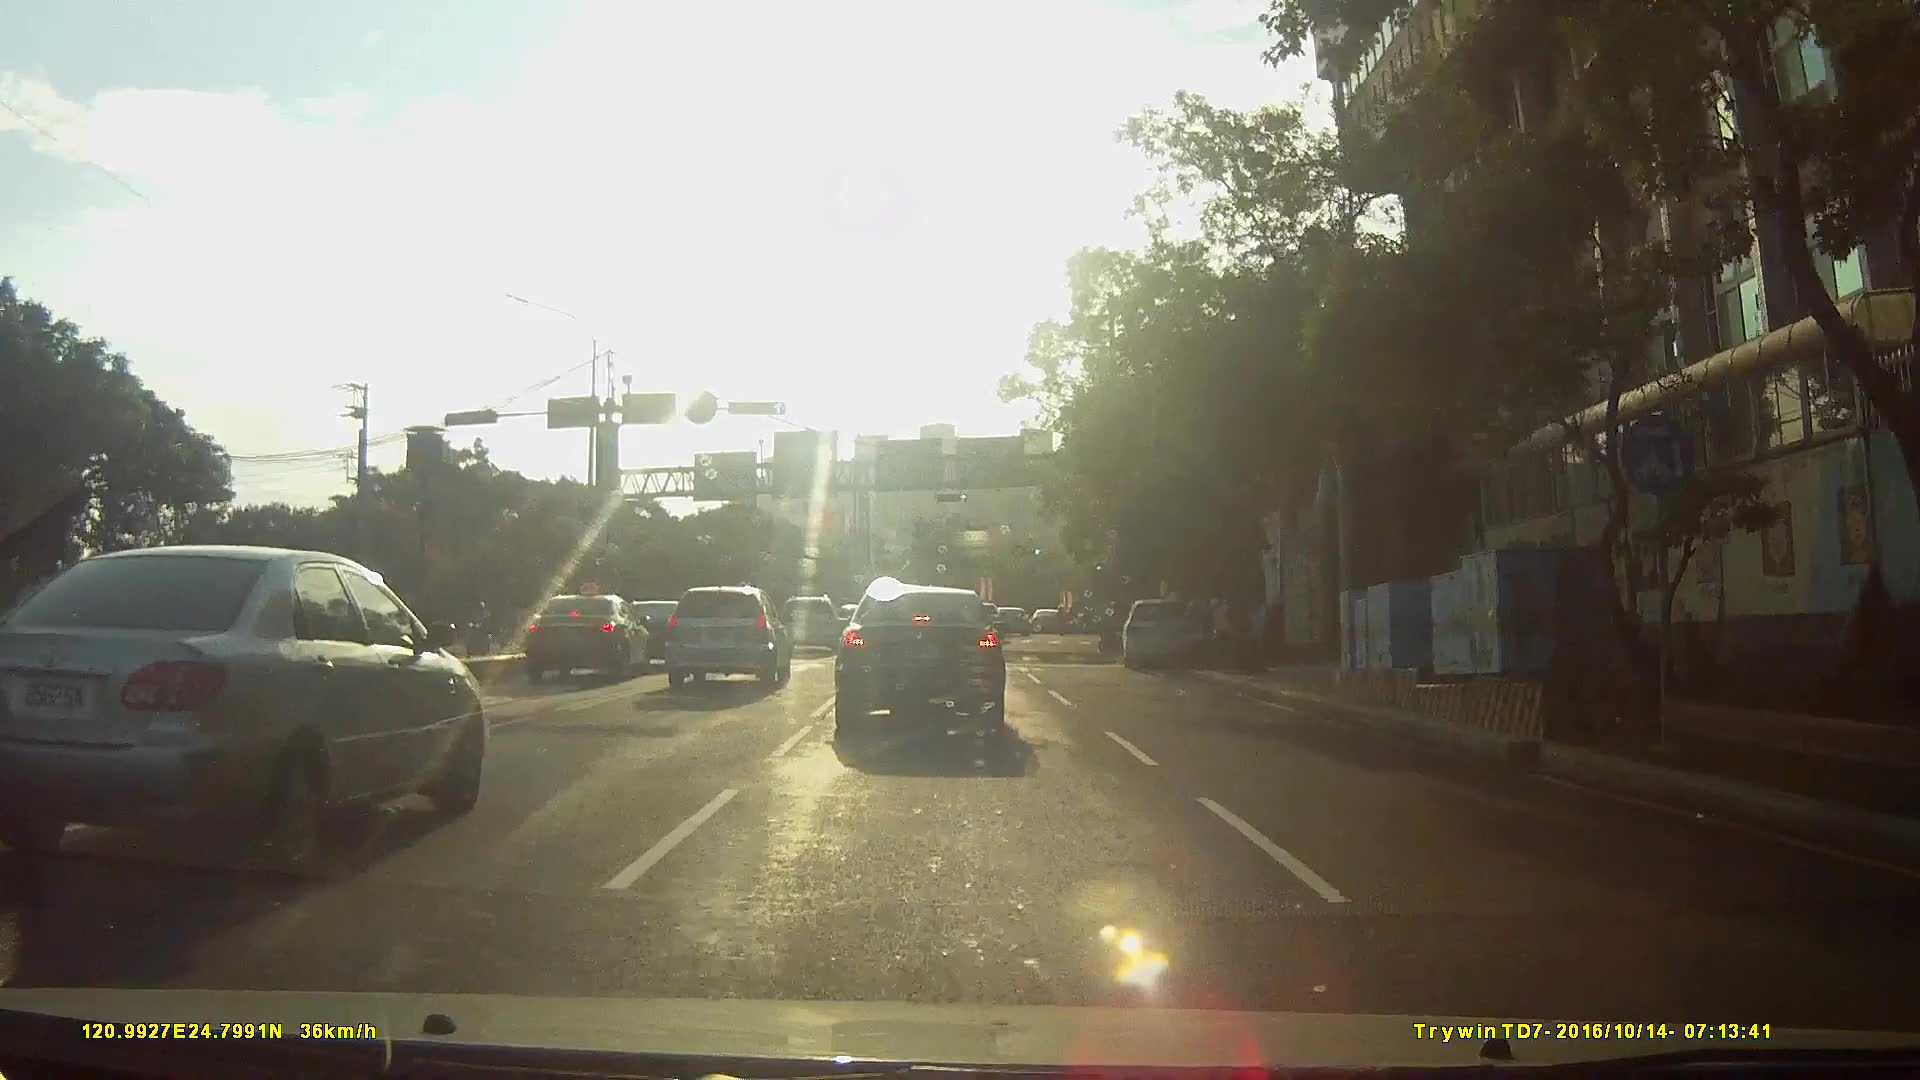pedestrian: (1209, 600, 1233, 663)
rider: (465, 598, 495, 659)
vehicle: (1, 544, 506, 891), (825, 601, 1023, 771), (658, 587, 790, 691), (500, 596, 640, 691), (1126, 599, 1209, 676), (604, 601, 685, 670), (776, 599, 845, 662), (994, 609, 1033, 641), (1029, 609, 1071, 637)
